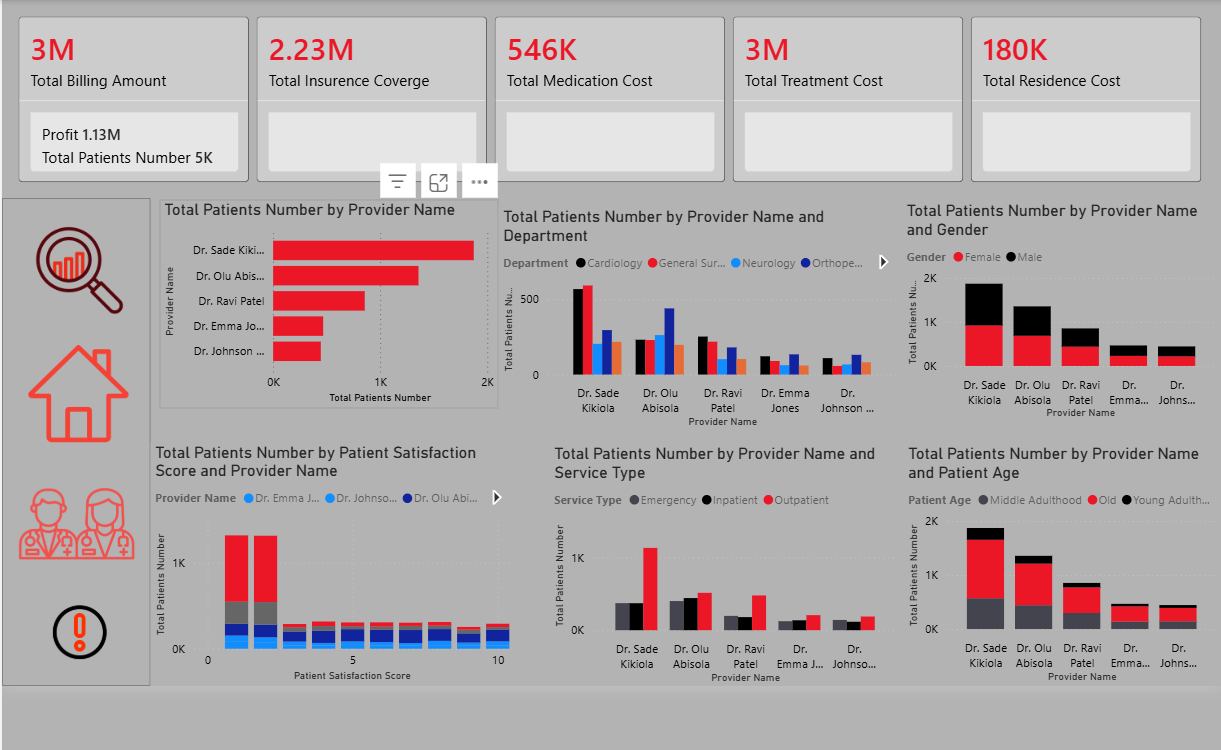

What the dashboard file says about the page in this screenshot:
{"tool":"powerbi","page":{"name":"Providers","canvas":[1280,720],"ordinal":1},"visuals":[{"type":"cardVisual","fields":{"Data":["Table Measures.Total Billing Amount","Table Measures.Total Insurence Coverge","Table Measures.Total Medication Cost","Table Measures.Total Treatment Cost","Table Measures.Total Residence Cost"]},"box":[0,0,1280,208.6],"z":0},{"type":"shape","box":[0,208.6,155.9,512.4],"z":1000},{"type":"image","box":[24.3,360.5,113.4,105.3],"z":2000},{"type":"image","box":[30.4,631.9,103.3,64.8],"z":3000},{"type":"image","box":[10.1,482,137.7,135.7],"z":4000},{"type":"image","box":[26.3,208.6,109.4,151.9],"z":5000},{"type":"barChart","fields":{"Category":["providers.Provider Name"],"Y":["Table Measures.Total Patients Number"]},"box":[166.1,210.2,355.9,218.6],"z":6000},{"type":"clusteredColumnChart","fields":{"Y":["Table Measures.Total Patients Number"],"Category":["providers.Provider Name"],"Series":["departments.Department"]},"box":[522,216.9,423.7,235.6],"z":7000},{"type":"clusteredColumnChart","fields":{"Y":["Table Measures.Total Patients Number"],"Series":["visits.Service Type"],"Category":["providers.Provider Name"]},"box":[575.2,465.8,370.6,255.2],"z":8000},{"type":"columnChart","fields":{"Category":["providers.Provider Name"],"Y":["Table Measures.Total Patients Number"],"Series":["patients.Gender"]},"box":[945.8,210.6,334.2,232.9],"z":9000},{"type":"columnChart","fields":{"Category":["providers.Provider Name"],"Y":["Table Measures.Total Patients Number"],"Series":["patients.Patient Age"]},"box":[946,466,334,254],"z":10000},{"type":"columnChart","fields":{"Category":["visits.Patient Satisfaction Score"],"Y":["Table Measures.Total Patients Number"],"Series":["providers.Provider Name"]},"box":[155.9,464.8,382.8,255.2],"z":11000}]}

Visuals, with their boxes on the page's 1280x720 design canvas (x1, y1, x2, y2). These are canvas units, not pixel positions in the 1221x750 screenshot, which may show the page scaled, cropped or inside an application window:
cardVisual - Table Measures.Total Billing Amount x Table Measures.Total Insurence Coverge: 0/0/1280/209
shape: 0/209/156/721
image: 24/360/138/466
image: 30/632/134/697
image: 10/482/148/618
image: 26/209/136/360
barChart - providers.Provider Name x Table Measures.Total Patients Number: 166/210/522/429
clusteredColumnChart - Table Measures.Total Patients Number x providers.Provider Name: 522/217/946/452
clusteredColumnChart - Table Measures.Total Patients Number x visits.Service Type: 575/466/946/721
columnChart - providers.Provider Name x Table Measures.Total Patients Number: 946/211/1280/444
columnChart - providers.Provider Name x Table Measures.Total Patients Number: 946/466/1280/720
columnChart - visits.Patient Satisfaction Score x Table Measures.Total Patients Number: 156/465/539/720
